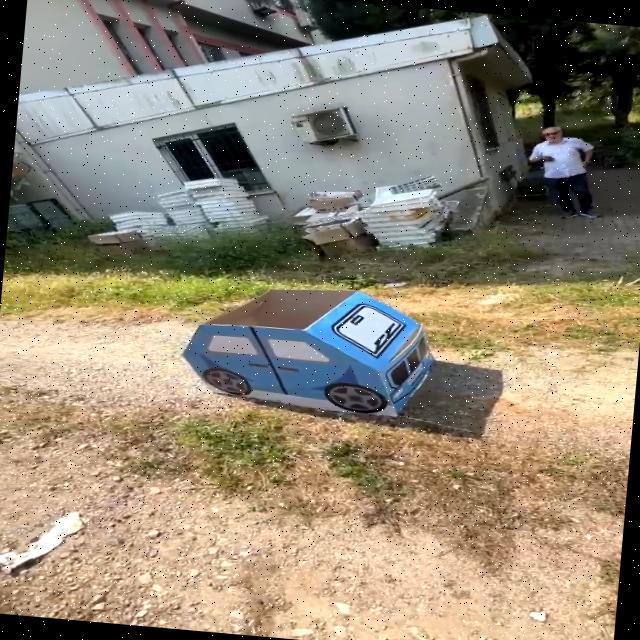blue_car: (157, 265, 497, 440)
